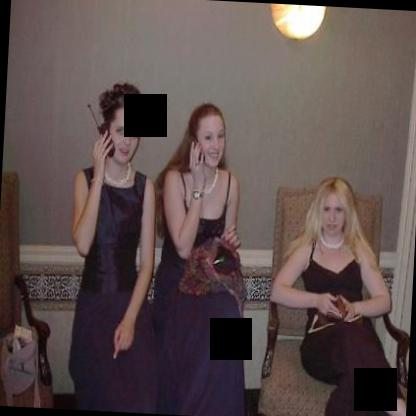handbag: (180, 239, 248, 324), (0, 324, 41, 408), (318, 310, 363, 326)
